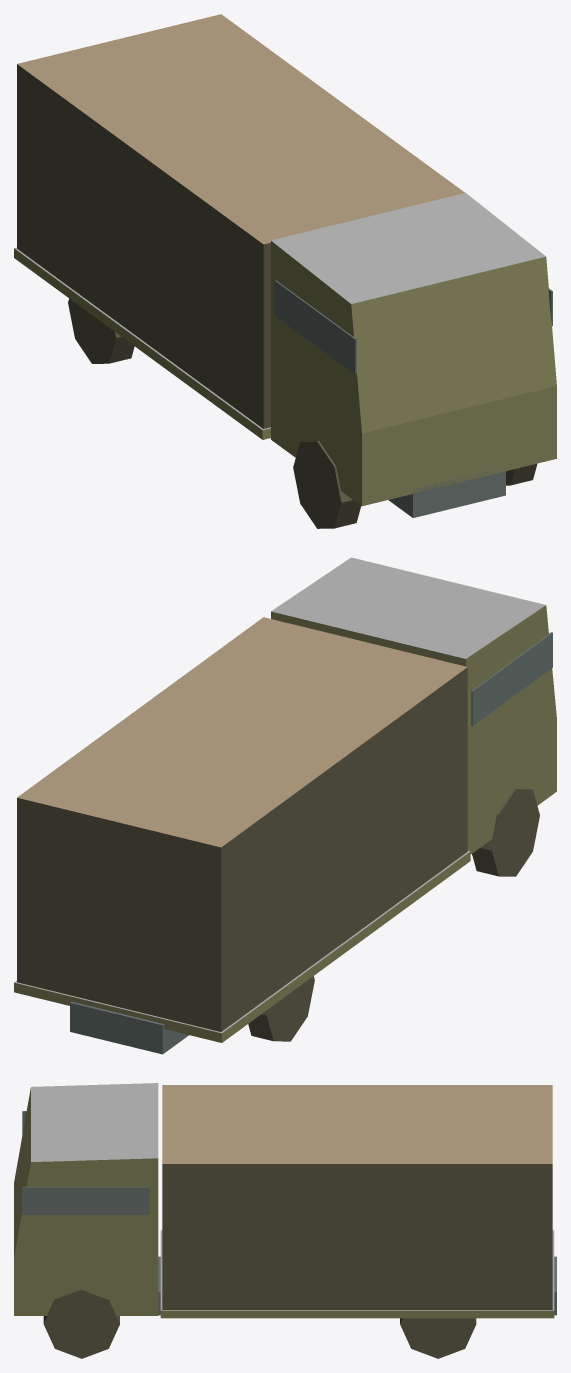
The model's file is SM_CocheCivil_Camion_v0_LOD1.fbx.
3 renders of one model, top to bottom at view 1: azimuth 30°, elevation 25°; view 2: azimuth 150°, elevation 25°; view 3: azimuth 270°, elevation 25°, orthographic. The views are drawn at different scales.
Visible parts, largest first — view 1: SM_coche_civil_v20_LOD1; view 2: SM_coche_civil_v20_LOD1; view 3: SM_coche_civil_v20_LOD1.
Boxes of the visible parts, <box> form: SM_coche_civil_v20_LOD1: <box>14,14,556,528</box>; SM_coche_civil_v20_LOD1: <box>14,557,556,1054</box>; SM_coche_civil_v20_LOD1: <box>14,1083,556,1358</box>.
Size of the model in its own units: 2.24 by 2.6 by 6.4.
